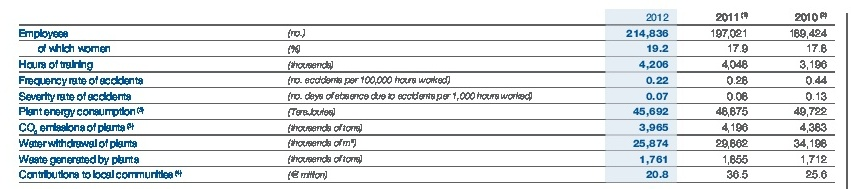table: (0, 0, 851, 189)
